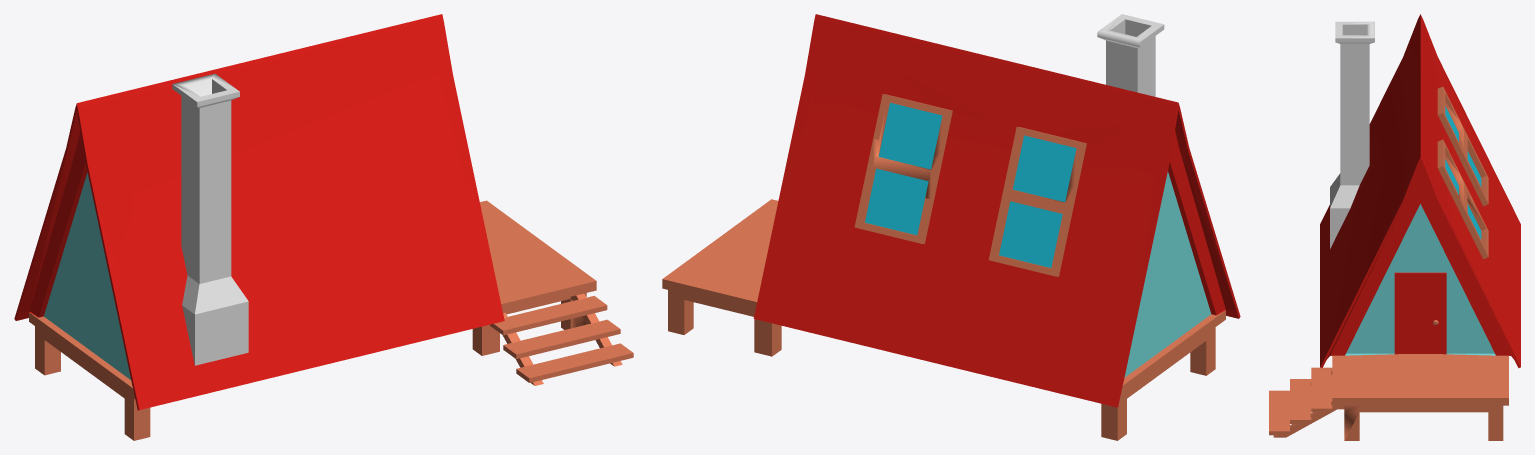
File: Domek2.fbx
3 views of the same model, side by side, from view 1: azimuth 30°, elevation 25°; view 2: azimuth 150°, elevation 25°; view 3: azimuth 270°, elevation 25° (orthographic). The views are drawn at different scales.
Visible parts, largest first — view 1: Domek_2; view 2: Domek_2; view 3: Domek_2.
Part boxes in pixels (x1=…): Domek_2: x1=14, y1=14, x2=633, y2=440; Domek_2: x1=662, y1=14, x2=1240, y2=440; Domek_2: x1=1269, y1=14, x2=1520, y2=440.
Size of the model in its own units: 1026 by 694 by 599.
